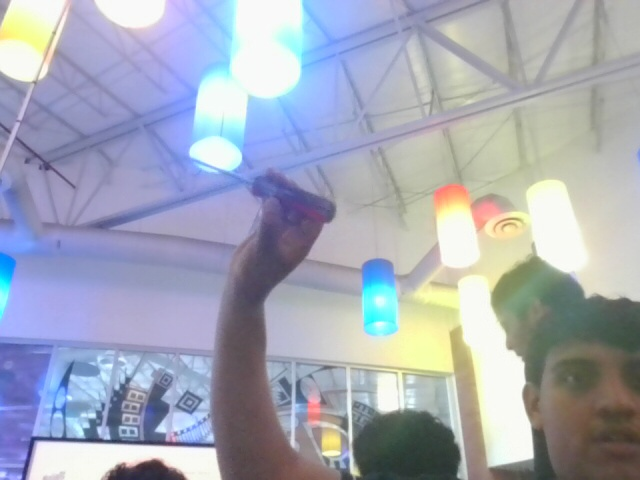destornillador: (187, 154, 331, 221)
